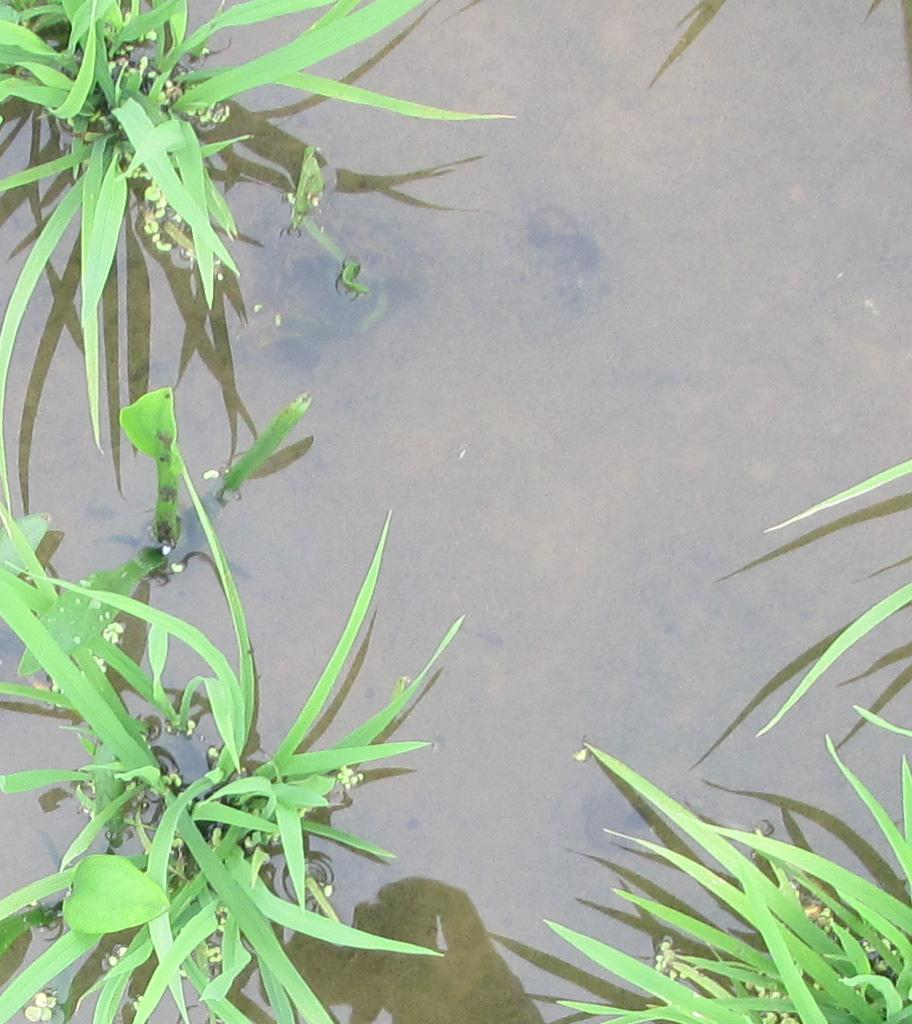Weed: (114, 383, 197, 553), (57, 850, 167, 941)
